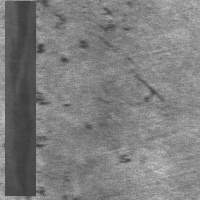inclusion: (5, 1, 36, 196)
rolled-in_scale: (2, 1, 54, 197), (49, 6, 131, 63)
